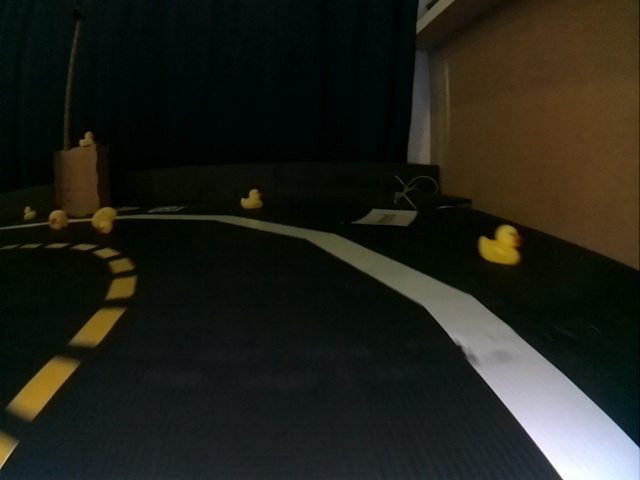Duckie: (478, 225, 521, 263), (92, 208, 116, 232), (241, 189, 263, 209), (49, 211, 69, 229), (23, 207, 35, 219), (82, 132, 92, 144)
QR code: (149, 205, 178, 213)
